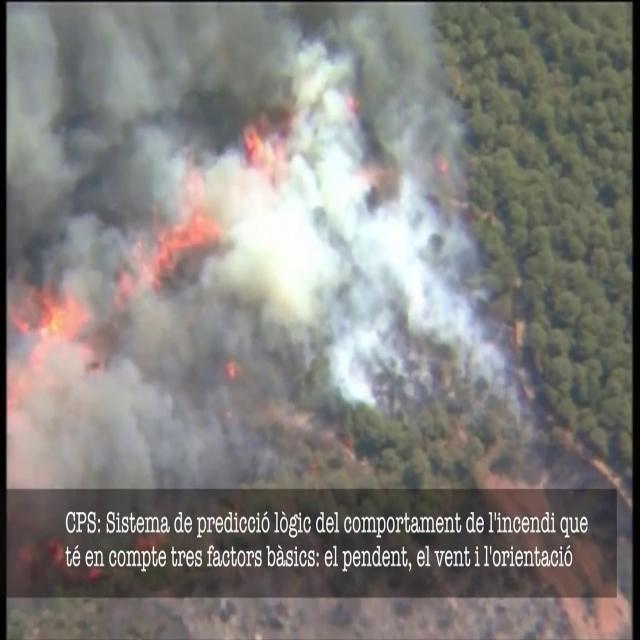Smoke: (7, 3, 541, 496)
